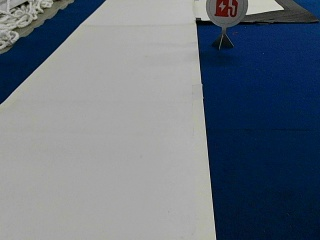battery: (205, 0, 248, 27)
